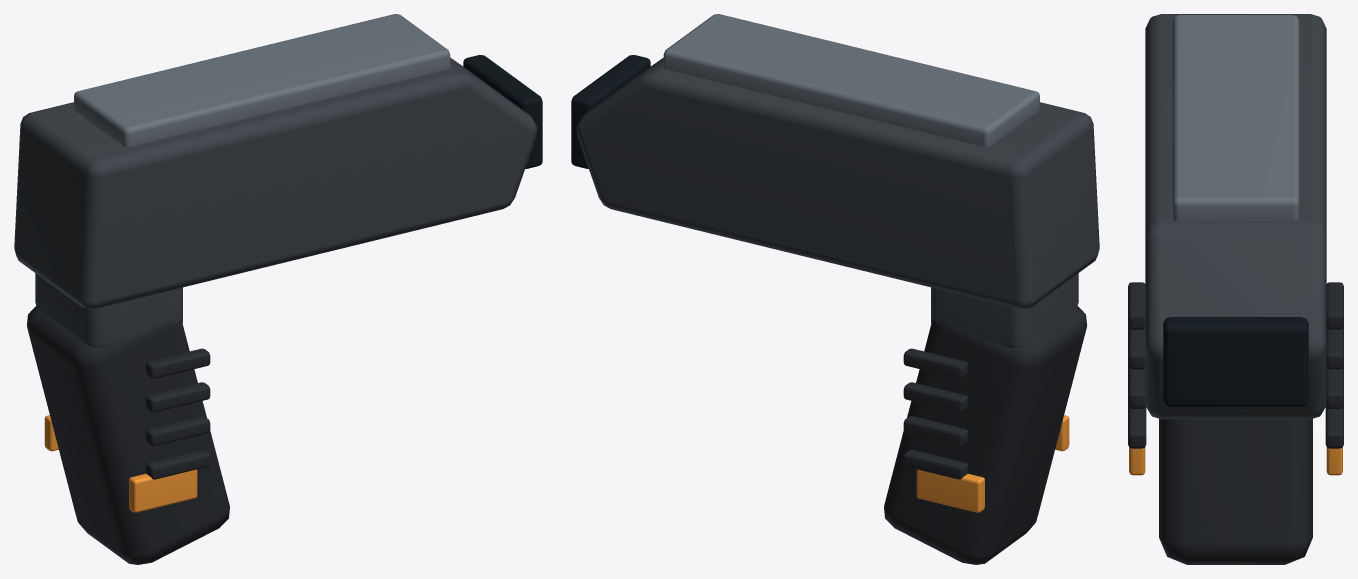
3 views of the same model, side by side, from view 1: azimuth 30°, elevation 25°; view 2: azimuth 150°, elevation 25°; view 3: azimuth 270°, elevation 25° (orthographic). The views are drawn at different scales.
Parts seen in each view (by area): view 1: E02__Upper_housing, E02__Grip, E02__Upper_trim, E02__Grip_bridge, E02, E02__Solid_front, E02__Role_inlay; view 2: E02__Upper_housing, E02__Grip, E02__Upper_trim, E02__Grip_bridge, E02, E02__Solid_front, E02__Role_inlay.001; view 3: E02__Upper_housing, E02__Upper_trim, E02__Grip, E02__Solid_front, E02, E02__Role_inlay, E02__Role_inlay.001.
Part boxes in pixels (x1,y1,x2,y2): E02__Upper_housing: [14, 58, 537, 308]; E02__Grip: [27, 306, 229, 564]; E02__Upper_trim: [74, 14, 450, 146]; E02__Grip_bridge: [35, 273, 182, 347]; E02: [145, 348, 210, 479]; E02__Solid_front: [463, 55, 542, 168]; E02__Role_inlay: [129, 469, 197, 512]; E02__Upper_housing: [576, 58, 1099, 308]; E02__Grip: [884, 306, 1086, 564]; E02__Upper_trim: [663, 14, 1039, 146]; E02__Grip_bridge: [931, 273, 1078, 347]; E02: [903, 348, 968, 479]; E02__Solid_front: [571, 55, 650, 168]; E02__Role_inlay.001: [916, 469, 984, 512]; E02__Upper_housing: [1145, 14, 1326, 419]; E02__Upper_trim: [1172, 15, 1299, 221]; E02__Grip: [1159, 418, 1312, 564]; E02__Solid_front: [1163, 317, 1308, 406]; E02: [1128, 282, 1343, 448]; E02__Role_inlay: [1129, 447, 1145, 475]; E02__Role_inlay.001: [1326, 447, 1342, 475].
Size of the model in its own units: 0.3141 by 0.2848 by 0.107.
